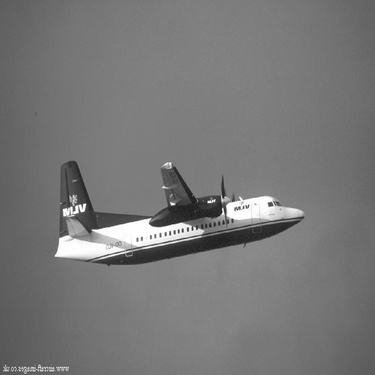airplane: (39, 151, 318, 286)
